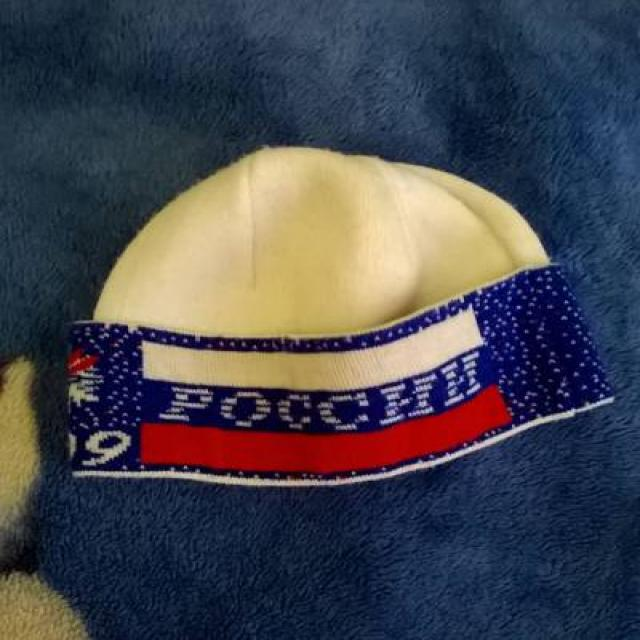Clothes -Biodegradable-: (64, 138, 620, 486)
